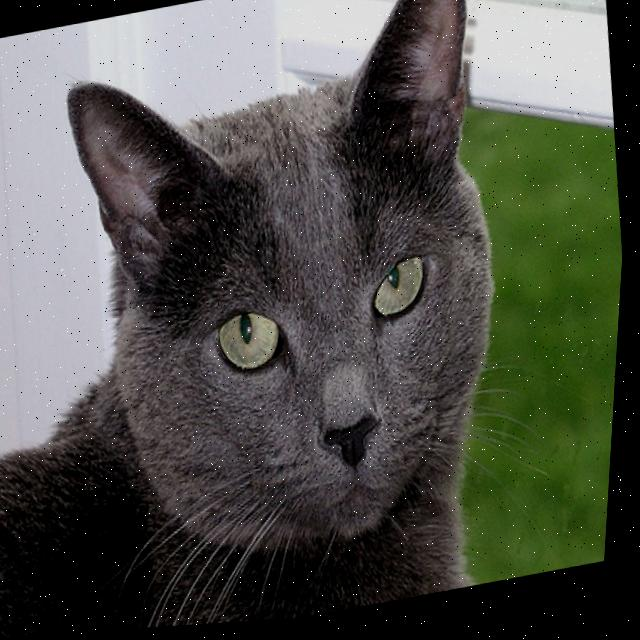Russian Blue: (0, 0, 552, 640)
